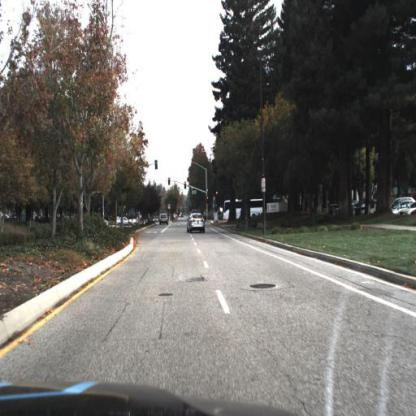car: (385, 193, 411, 216), (188, 213, 205, 234), (117, 216, 134, 228), (161, 213, 169, 226)
pedestrian: (230, 209, 235, 225)
trafficLight-Red: (216, 191, 220, 200), (185, 182, 188, 190)
trafficLight-RedLeft: (168, 177, 171, 187)
truck: (221, 197, 265, 223)
